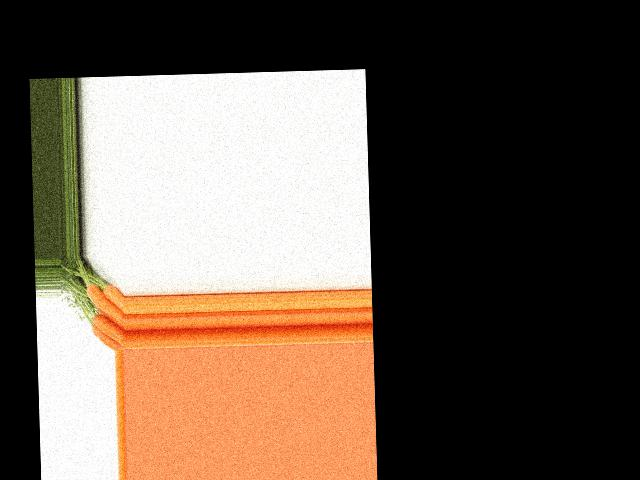carrot: (101, 284, 125, 313)
